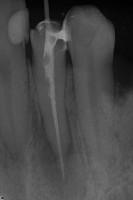Furcation Involvement: (30, 101, 86, 200)
